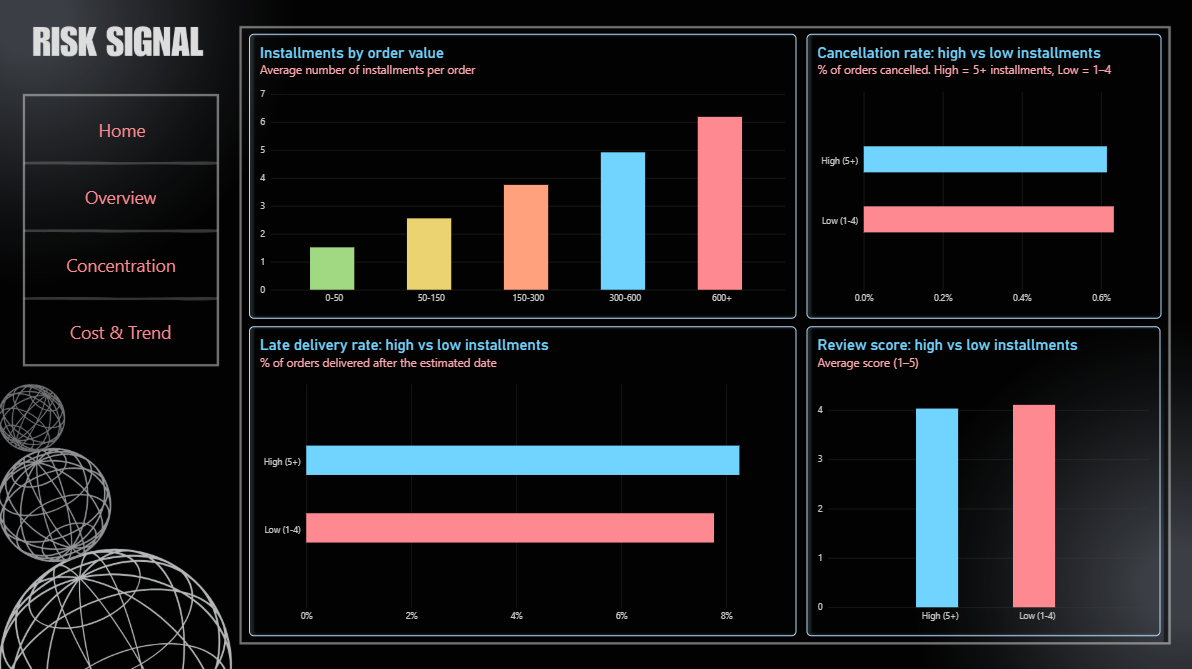

What the dashboard file says about the page in this screenshot:
{"tool":"powerbi","page":{"name":"Risk Signal","canvas":[1920,1080],"ordinal":3},"visuals":[{"type":"clusteredColumnChart","title":"Installments by order value","fields":{"Category":["public fact_orders.Order Value Bucket"],"Y":["public fact_orders.Avg Installments"]},"box":[400,54,876,456],"z":0},{"type":"clusteredBarChart","title":"Cancellation rate: high vs low installments","fields":{"Category":["public fact_orders.Installment Risk Group"],"Y":["public fact_orders.Cancellation Rate"]},"box":[1292,54,568,456],"z":1000},{"type":"clusteredBarChart","title":"Late delivery rate: high vs low installments","fields":{"Category":["public fact_orders.Installment Risk Group"],"Y":["public fact_orders.Late Delivery Rate"]},"box":[400,522,876,496],"z":2000},{"type":"clusteredColumnChart","title":"Review score: high vs low installments","fields":{"Category":["public fact_orders.Installment Risk Group"],"Y":["public fact_orders.Avg Review Score"]},"box":[1292,522,566,496],"z":3000},{"type":"actionButton","box":[41.1,153.7,309.5,110.4],"z":4000},{"type":"actionButton","box":[40.5,259.5,309.2,110.4],"z":5000},{"type":"actionButton","box":[40.5,476.7,309.2,110.4],"z":6000},{"type":"actionButton","box":[40,370,310,110],"z":7000}]}

Visuals, with their boxes in screenshot pixels (x1, y1, x2, y2), scaled from the page's 1920x1080 canvas onto the 1192x669 screenshot:
"Installments by order value" clusteredColumnChart: 248 33 792 316
"Cancellation rate: high vs low installments" clusteredBarChart: 802 33 1155 316
"Late delivery rate: high vs low installments" clusteredBarChart: 248 323 792 631
"Review score: high vs low installments" clusteredColumnChart: 802 323 1154 631
actionButton: 26 95 218 164
actionButton: 25 161 217 229
actionButton: 25 295 217 364
actionButton: 25 229 217 297
